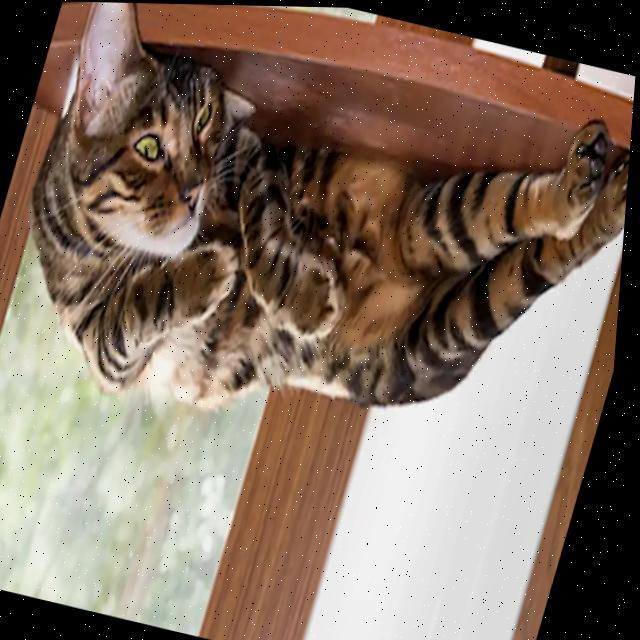Toyger: (0, 0, 640, 501)
